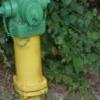Hydrant: (1, 1, 57, 99)
